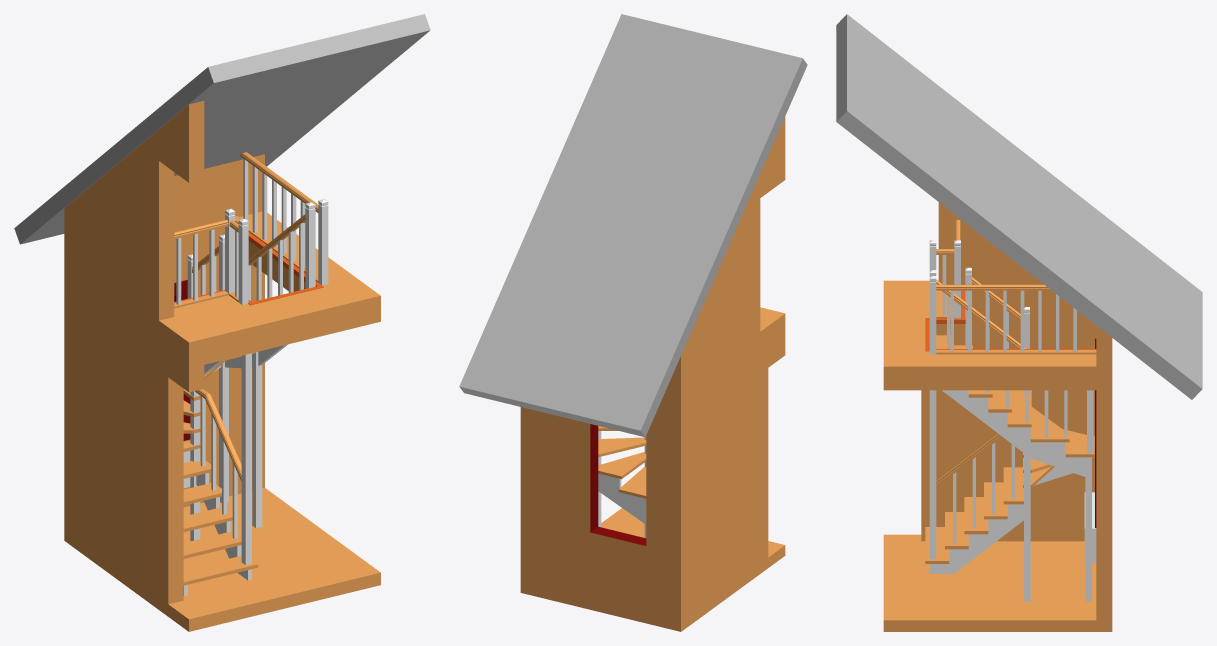
The model's file is лестница.obj.
3 renders of one model, left to right at view 1: azimuth 30°, elevation 25°; view 2: azimuth 150°, elevation 25°; view 3: azimuth 270°, elevation 25°, orthographic. The views are drawn at different scales.
Bounding box in the file's own units: 2.7 × 6.9 × 4.31.
